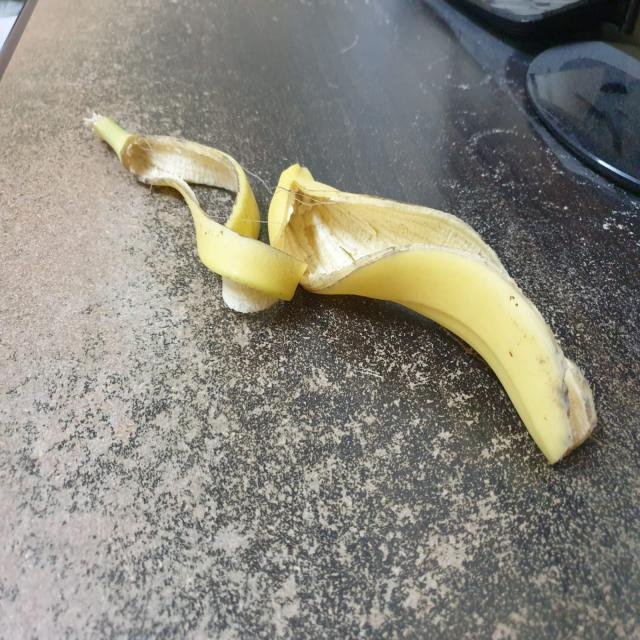banana-peel: (83, 109, 598, 466)
